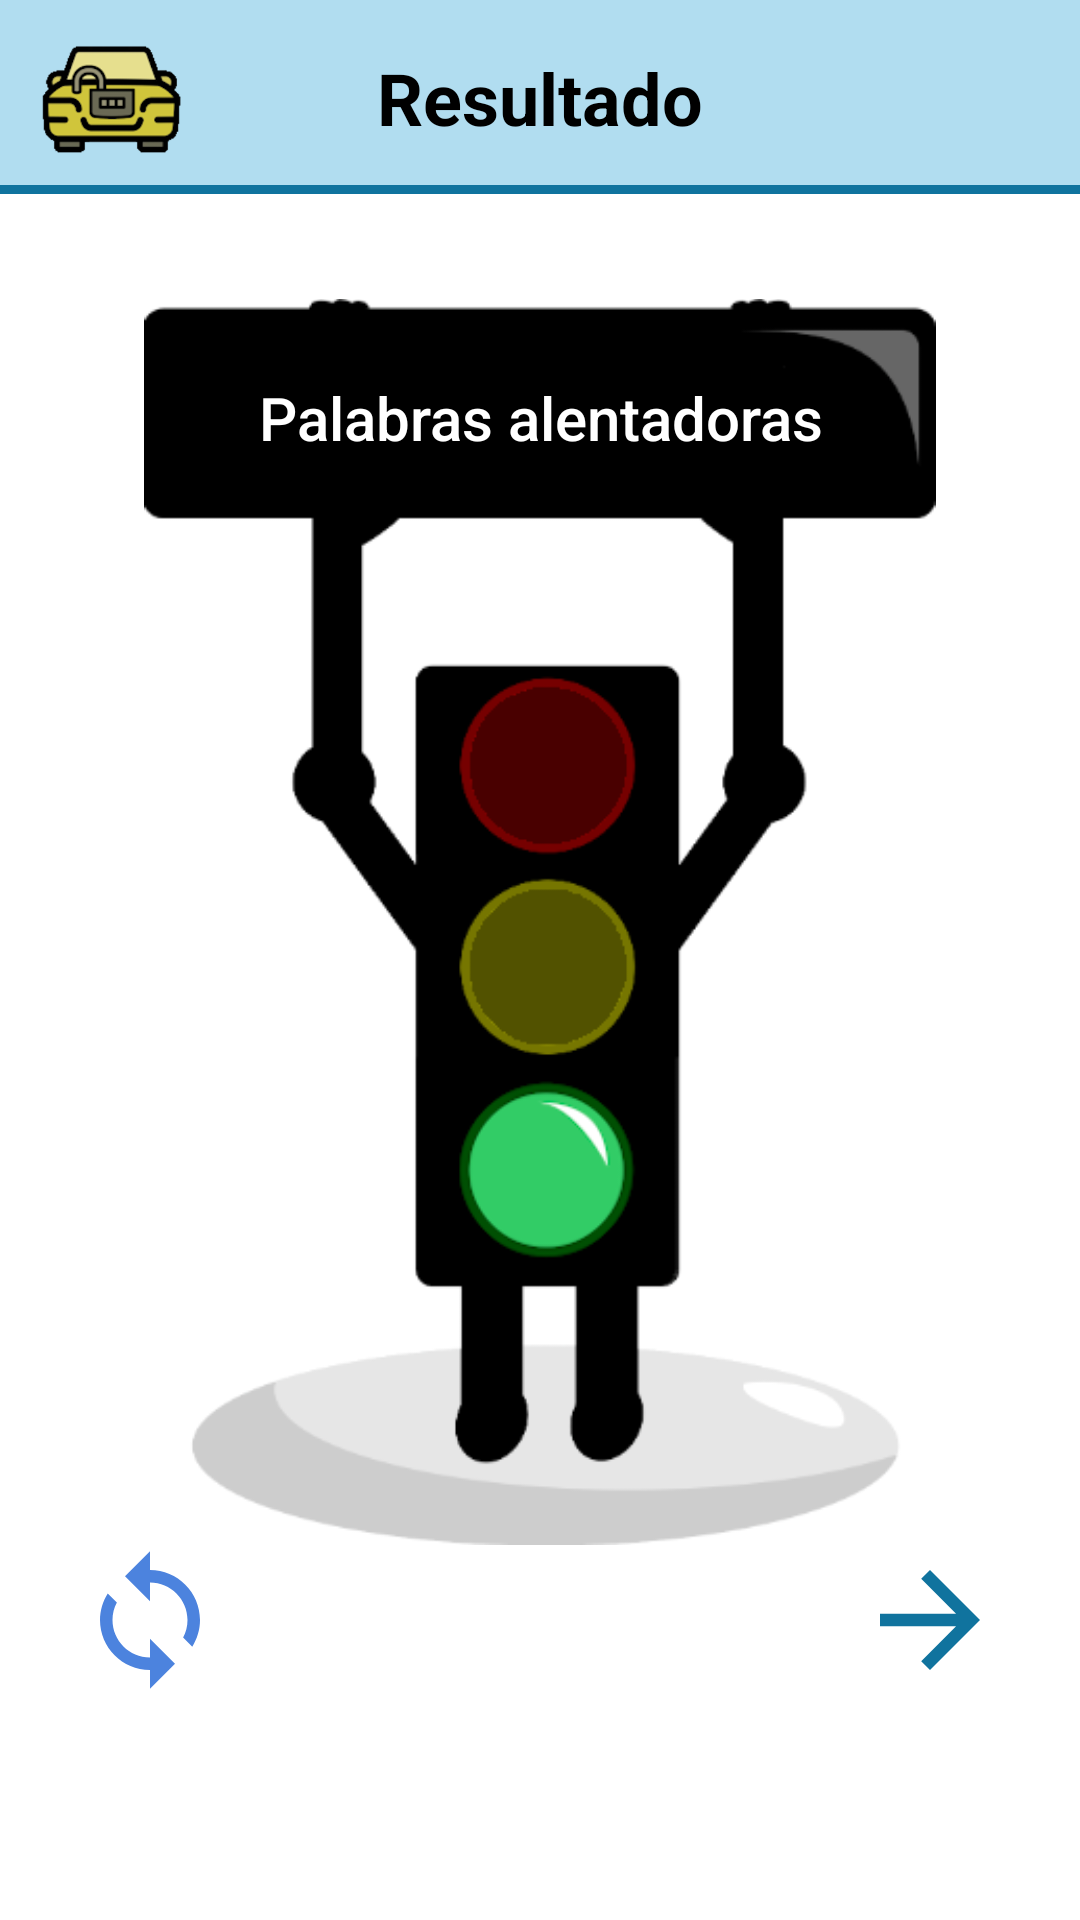

Where to tap for icons on this 1080w x 1920h app screen, as (x=x, y=y):
repeat: (x=150, y=1620)
right arrow: (x=930, y=1620)
